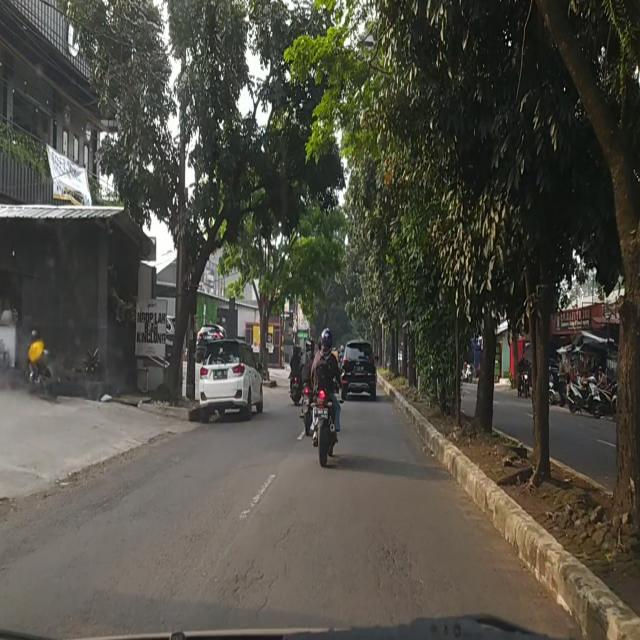Drain Hole: (219, 525, 293, 617), (372, 527, 424, 611)
